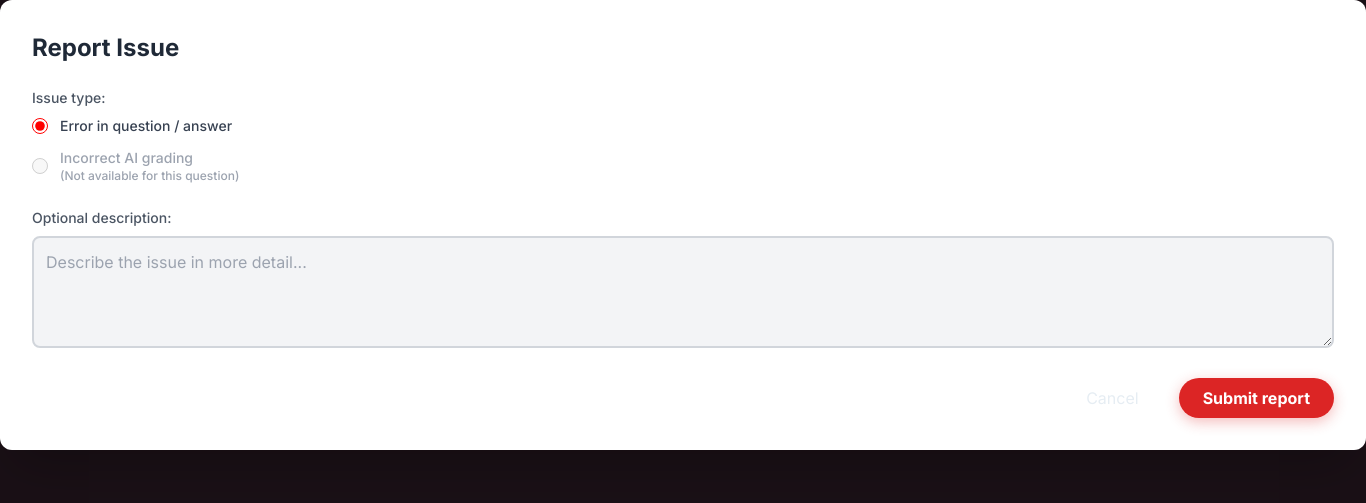
Test case: ReportModal — error handling › falls back to generic message when error has no message
Click the button "Submit report" at (1256, 398), box [1179,378,1334,418]
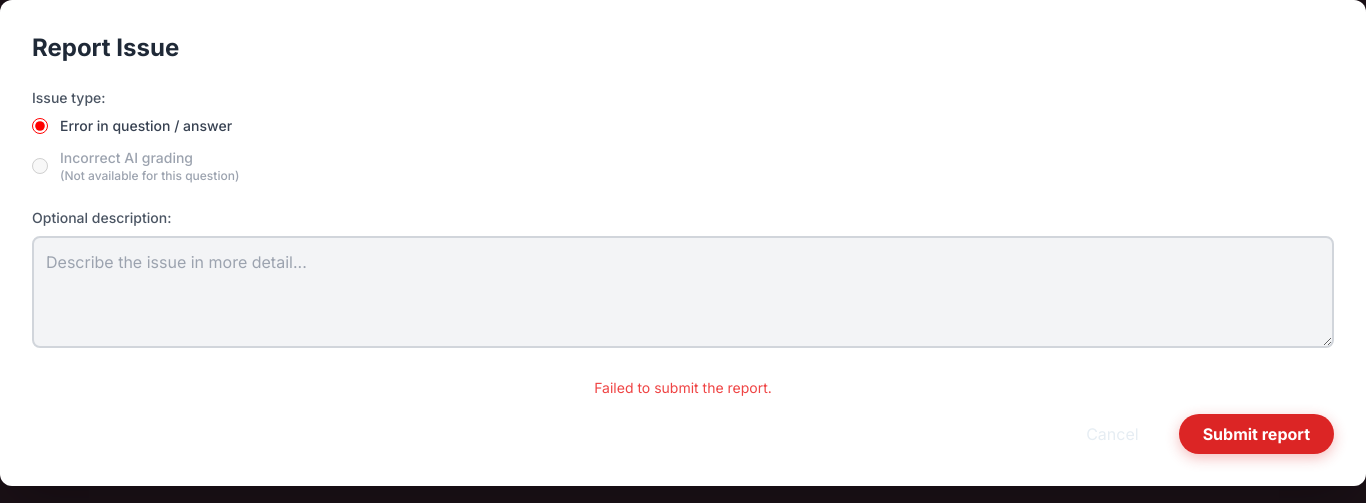
Expected: the text "Failed to submit the report." is shown, [594,379,772,396]
